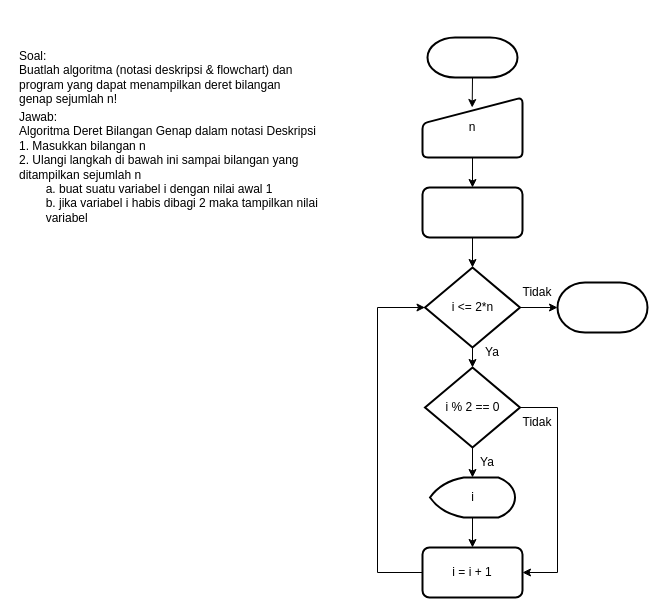
The diagram is 665 pixels wide and 615 high, and some of its shapes have lost their labels. The box of each missing label's shape, as (x1, y1, x2, y2) in pixels:
i = 1: (421, 186, 523, 238)
mulai: (426, 36, 518, 78)
selesai: (556, 281, 648, 333)
